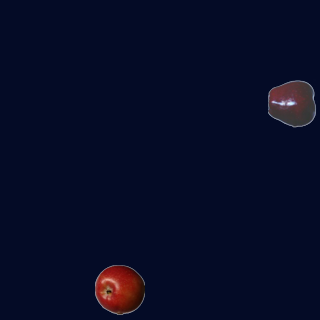Apple Braeburn: (94, 264, 144, 314)
Apple Red Delicious: (267, 78, 317, 128)
